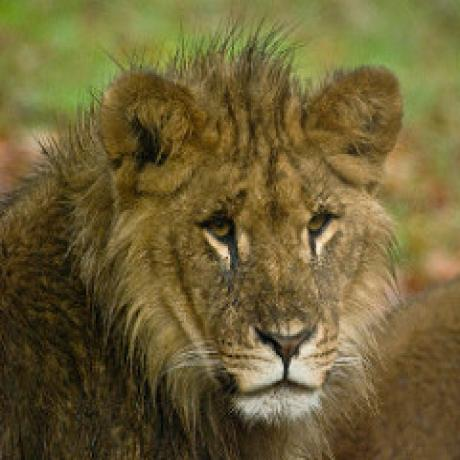Lion: (0, 33, 403, 460)
